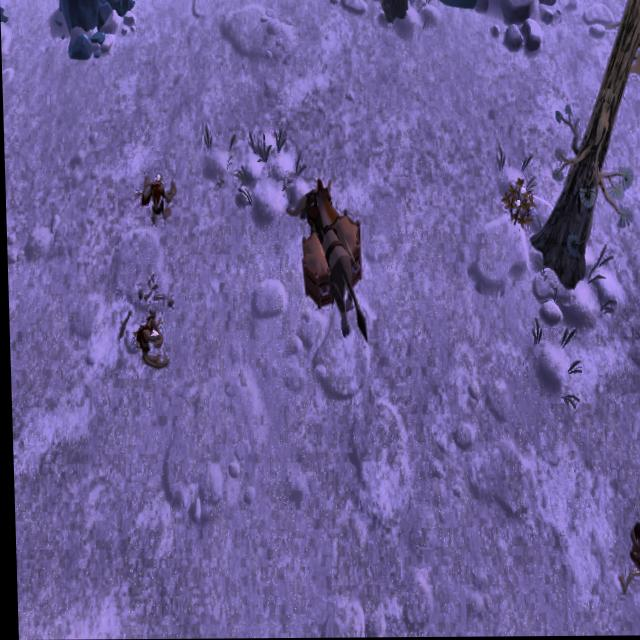enemy_factionUndead: (139, 171, 178, 230), (134, 307, 169, 371)
